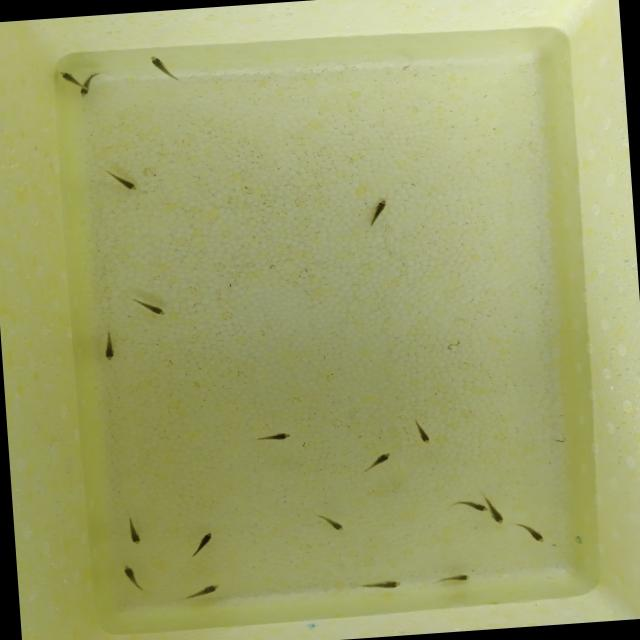fingerling: (100, 160, 142, 201), (360, 189, 400, 231), (125, 290, 175, 323), (142, 50, 186, 87), (247, 421, 302, 450), (356, 444, 400, 479), (181, 526, 223, 562), (178, 578, 232, 606), (425, 565, 484, 588), (307, 508, 354, 536), (512, 516, 552, 548), (406, 411, 438, 450), (113, 560, 148, 594), (118, 512, 146, 552), (352, 575, 406, 595), (444, 489, 485, 515), (96, 329, 120, 369), (81, 66, 103, 100), (486, 496, 508, 529), (56, 64, 78, 92)
